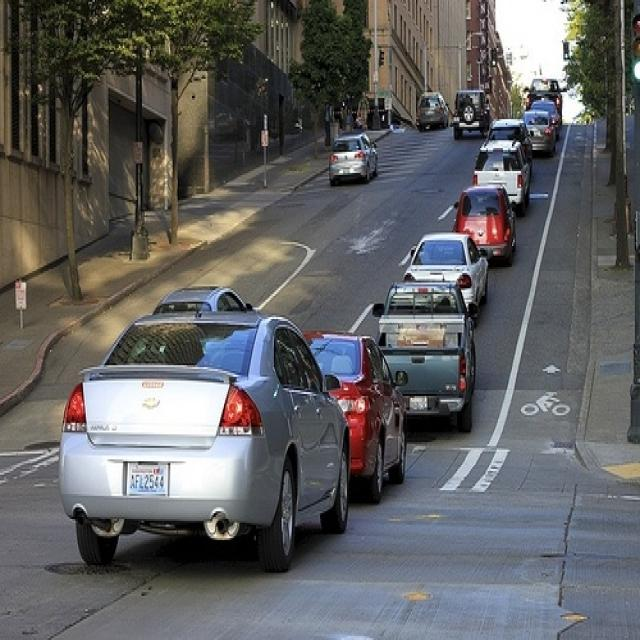Carro Branco: (406, 232, 492, 311), (471, 141, 526, 208)
Carro Cinza: (383, 286, 475, 429), (521, 112, 555, 161)
Carro Prata: (61, 320, 352, 555), (331, 132, 380, 189)
Carro Preto: (454, 88, 490, 137)
Carro Vermelho: (298, 322, 407, 493), (455, 182, 517, 260)
